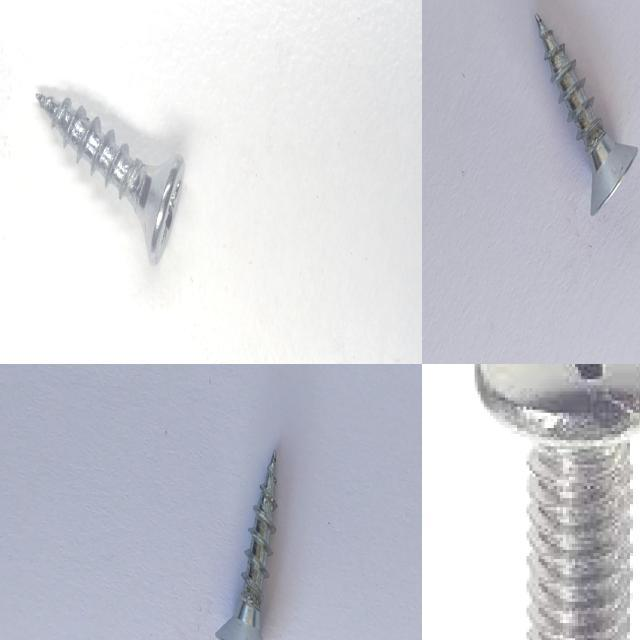Screw: (475, 364, 640, 640), (33, 85, 187, 273), (535, 13, 638, 215), (215, 449, 277, 640)
